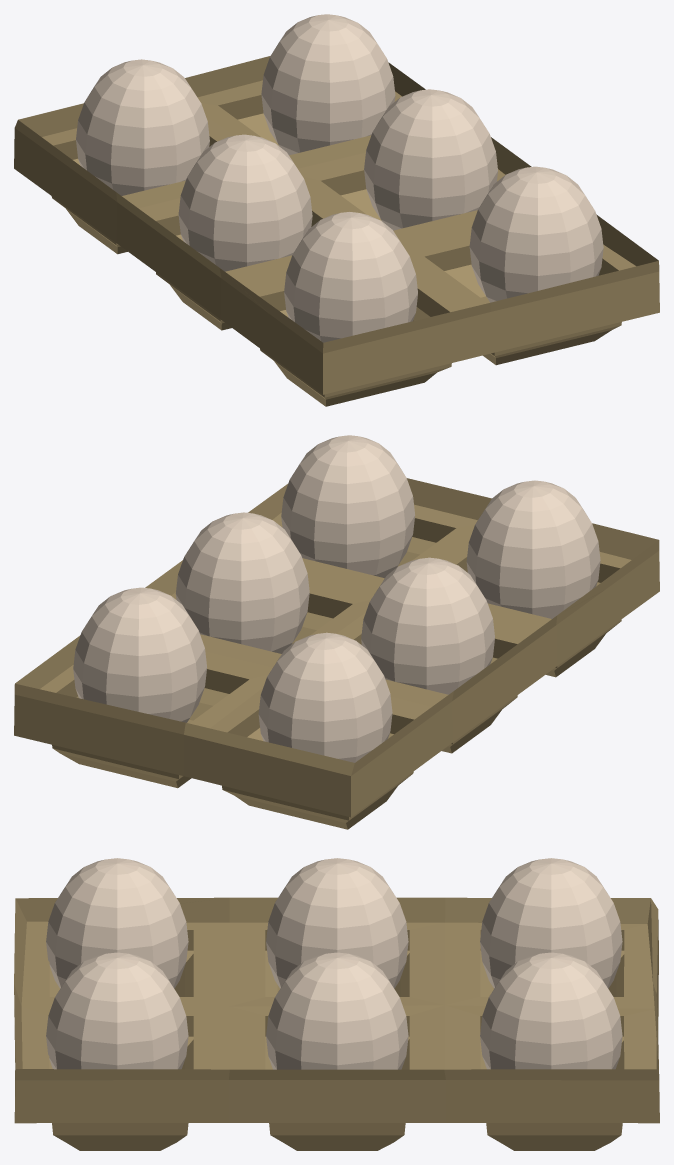
Rendered from LudumDareEggCarton.fbx.
3 renders of one model, top to bottom at view 1: azimuth 30°, elevation 25°; view 2: azimuth 150°, elevation 25°; view 3: azimuth 270°, elevation 25°, orthographic. The views are drawn at different scales.
Visible parts, largest first — view 1: Eggs.001, Eggs; view 2: Eggs.001, Eggs; view 3: Eggs, Eggs.001.
Part boxes in pixels (<box>): Eggs.001: <box>76,14,603,342</box>; Eggs: <box>14,56,659,406</box>; Eggs.001: <box>73,435,600,762</box>; Eggs: <box>14,478,659,829</box>; Eggs: <box>14,897,659,1150</box>; Eggs.001: <box>46,858,622,1069</box>.
Bounding box in the file's own units: 13.53 × 6.33 × 21.51.
